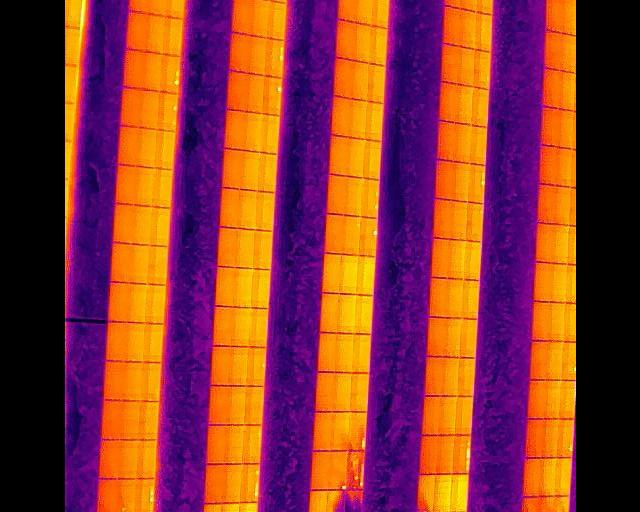Cell: (262, 76, 281, 115), (329, 451, 348, 490), (358, 217, 376, 258), (246, 347, 264, 386), (465, 203, 482, 242), (342, 217, 359, 255), (557, 419, 574, 457), (561, 342, 576, 381), (64, 0, 80, 28), (130, 0, 150, 14)
Cell-Multi: (348, 411, 367, 451), (158, 92, 176, 132), (160, 54, 178, 94), (134, 479, 155, 512), (265, 38, 283, 76), (346, 451, 363, 491), (361, 178, 378, 217), (240, 465, 257, 503), (453, 435, 469, 474), (117, 479, 134, 512)
No-Anomaly: (218, 188, 240, 228), (113, 205, 136, 243), (221, 149, 242, 190), (437, 82, 458, 123), (120, 88, 142, 127), (117, 166, 139, 205), (217, 228, 238, 268), (224, 110, 245, 150), (113, 243, 134, 283), (98, 439, 119, 479), (226, 71, 246, 112), (209, 346, 230, 385), (542, 70, 563, 109), (119, 127, 140, 166), (108, 283, 129, 322), (101, 400, 122, 439), (524, 419, 544, 459), (326, 174, 345, 216), (136, 440, 156, 479), (206, 425, 226, 464), (540, 146, 560, 185), (318, 294, 338, 333), (103, 362, 123, 401), (231, 33, 250, 74), (440, 42, 458, 85), (324, 216, 344, 254), (352, 334, 371, 374), (250, 269, 269, 309), (155, 129, 174, 169), (315, 372, 334, 412), (140, 363, 160, 401), (215, 267, 234, 307), (322, 254, 341, 294), (142, 324, 162, 362), (106, 323, 126, 361), (544, 33, 565, 69), (433, 198, 451, 240), (309, 451, 328, 490), (205, 465, 224, 504), (209, 385, 228, 424), (356, 257, 375, 296), (145, 285, 164, 324), (128, 13, 147, 52), (541, 109, 561, 146), (434, 160, 454, 197), (213, 306, 231, 347), (317, 332, 335, 373), (441, 5, 459, 46), (437, 121, 455, 162), (336, 22, 355, 60), (253, 191, 272, 229), (125, 50, 144, 88), (537, 184, 555, 224), (334, 59, 352, 99), (232, 307, 250, 347), (313, 411, 331, 451), (260, 114, 278, 154), (545, 0, 566, 34), (431, 237, 448, 279), (339, 255, 357, 294), (257, 153, 275, 192), (364, 103, 382, 142), (553, 458, 571, 497), (437, 396, 455, 435), (154, 168, 171, 209), (253, 229, 270, 270), (428, 318, 445, 359), (248, 35, 265, 76), (149, 245, 166, 286), (96, 479, 117, 512), (252, 0, 270, 38), (354, 296, 372, 334), (138, 401, 156, 439), (333, 98, 351, 136), (367, 27, 386, 63), (124, 324, 142, 362), (331, 411, 348, 451), (249, 308, 266, 348), (242, 425, 259, 465), (345, 177, 362, 217), (528, 379, 545, 419), (244, 385, 261, 425), (549, 263, 566, 303), (142, 89, 159, 129), (328, 138, 346, 175), (363, 142, 381, 179), (234, 0, 253, 35), (366, 64, 383, 103), (164, 15, 181, 54), (533, 263, 550, 302), (547, 302, 564, 341), (151, 208, 168, 247), (245, 74, 262, 113), (334, 373, 351, 412), (147, 14, 164, 53), (335, 334, 352, 373), (535, 224, 552, 263), (350, 373, 367, 412), (426, 357, 443, 396), (119, 440, 136, 479), (552, 223, 568, 264), (144, 51, 160, 92), (268, 0, 284, 41), (469, 124, 485, 165), (471, 86, 487, 127), (459, 318, 475, 359), (419, 435, 436, 473), (553, 186, 570, 224), (432, 474, 449, 512), (123, 363, 140, 401), (531, 302, 547, 342), (244, 113, 260, 153), (429, 277, 445, 317), (450, 199, 465, 241), (529, 341, 545, 380), (228, 385, 244, 424), (339, 295, 355, 334), (538, 458, 554, 497), (122, 400, 138, 439), (560, 109, 576, 148), (461, 280, 477, 319), (242, 151, 257, 192), (459, 9, 474, 50), (130, 283, 145, 324), (346, 140, 362, 178), (560, 148, 576, 186), (559, 381, 575, 419), (473, 13, 489, 51), (449, 474, 465, 512), (350, 100, 365, 140), (139, 166, 154, 206), (235, 268, 250, 308), (464, 241, 479, 281), (231, 347, 246, 386), (237, 229, 252, 268), (227, 425, 242, 464), (454, 396, 469, 435), (446, 279, 461, 318), (452, 162, 467, 201), (437, 435, 452, 474), (473, 50, 488, 89), (523, 458, 538, 497), (547, 342, 562, 380), (224, 465, 239, 503), (546, 379, 560, 419), (140, 127, 154, 167), (445, 318, 459, 358), (460, 46, 474, 86), (449, 239, 463, 279), (423, 396, 437, 435), (134, 244, 148, 283), (352, 62, 366, 100), (136, 206, 150, 244), (457, 358, 471, 396), (443, 358, 457, 396), (241, 189, 254, 229), (355, 25, 369, 62), (456, 123, 469, 162), (458, 85, 471, 124), (563, 72, 576, 110), (544, 418, 556, 458), (371, 0, 388, 28), (337, 0, 356, 22), (356, 0, 372, 25), (309, 491, 325, 512), (167, 0, 184, 19), (149, 0, 168, 16), (474, 0, 492, 14), (459, 0, 476, 11), (219, 503, 237, 512), (202, 503, 220, 512), (238, 503, 256, 512), (442, 0, 459, 8)
Shadowing: (416, 474, 432, 512), (326, 491, 344, 512), (345, 490, 361, 512), (518, 497, 536, 512), (552, 496, 568, 512), (536, 496, 551, 512)
Unclassified: (467, 164, 485, 203)
